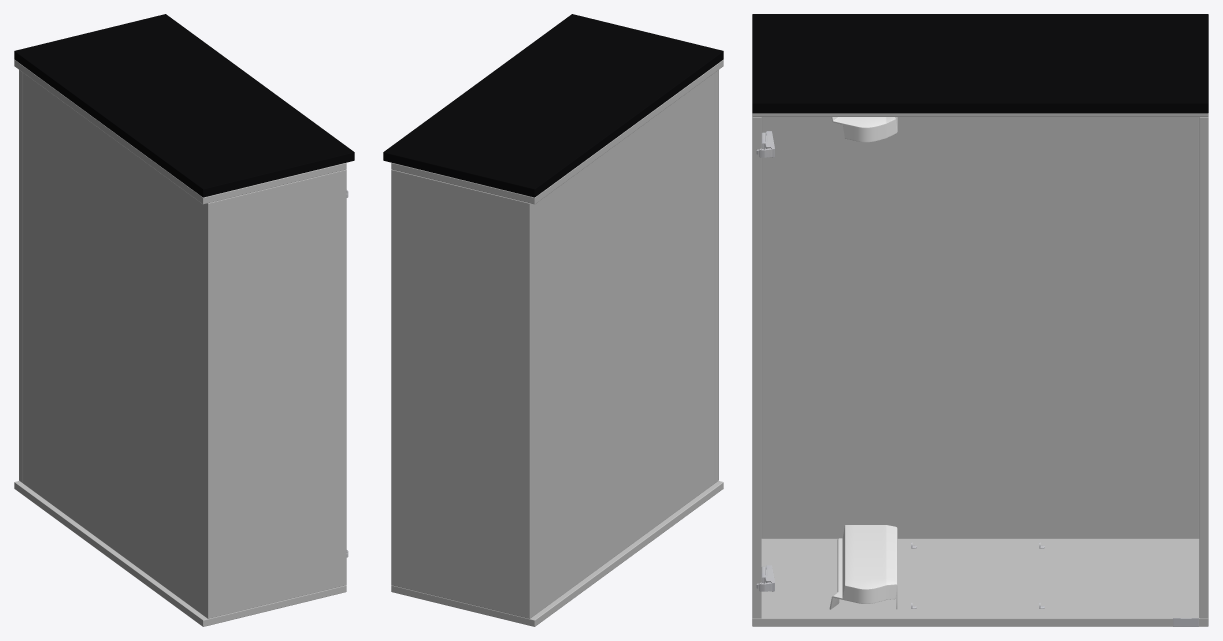
File: Kitchen04Base.obj
3 renders of one model, left to right at view 1: azimuth 30°, elevation 25°; view 2: azimuth 150°, elevation 25°; view 3: azimuth 270°, elevation 25°, orthographic. The views are drawn at different scales.
Parts seen in each view (by area): view 1: Kitchen04Base; view 2: Kitchen04Base; view 3: Kitchen04Base.
Boxes of the visible parts, x1,y1,x2,y2 form: Kitchen04Base: (14,14,354,626); Kitchen04Base: (383,14,723,626); Kitchen04Base: (752,14,1208,626).
Size of the model in its own units: 0.37 by 1.02 by 0.798.
4 materials, 1 textured.
